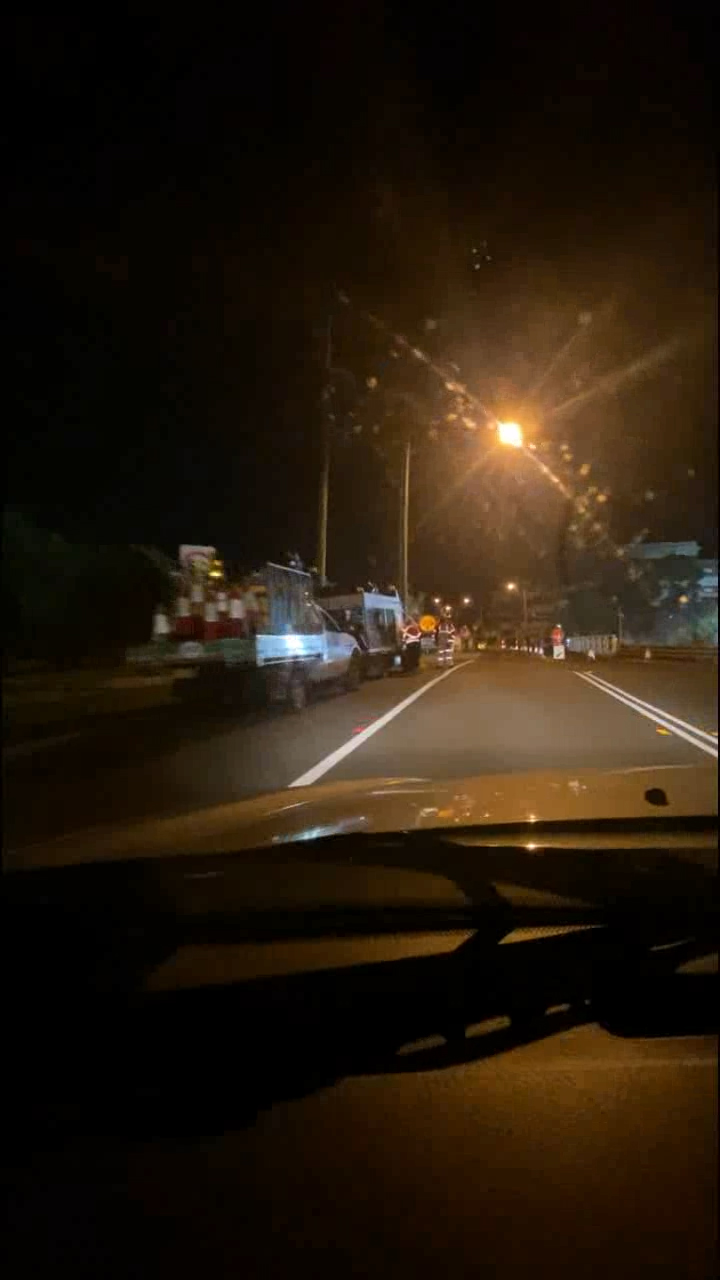car: (132, 559, 358, 710)
person: (398, 613, 422, 673), (431, 610, 455, 670)
